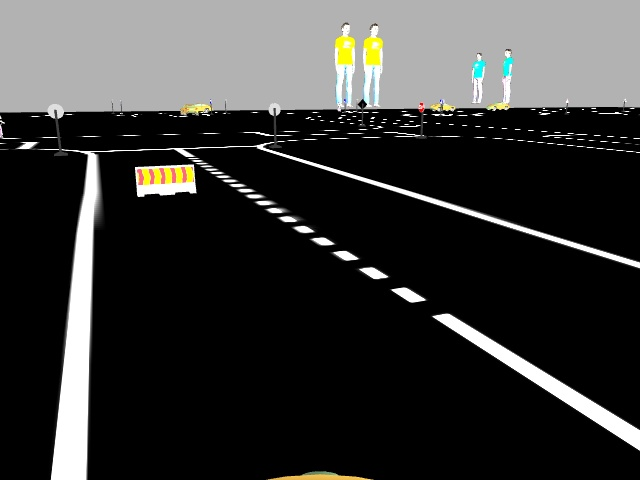ClosedRoadStand: (134, 167, 195, 193)
